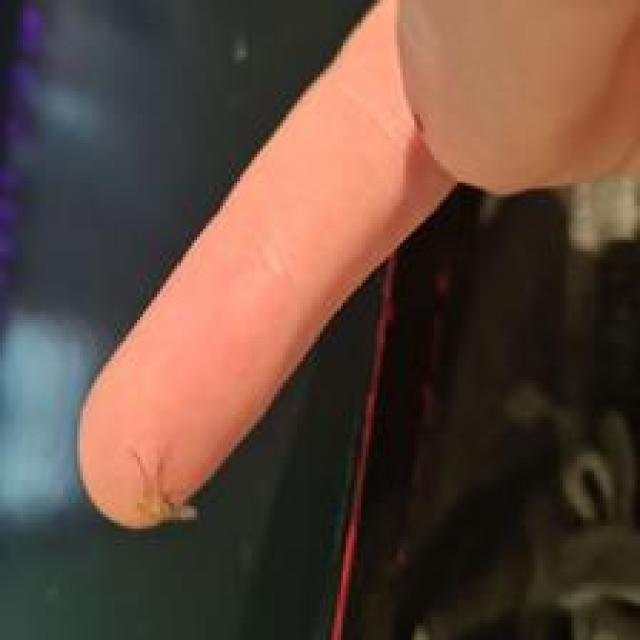Culex: (314, 183, 640, 640)
